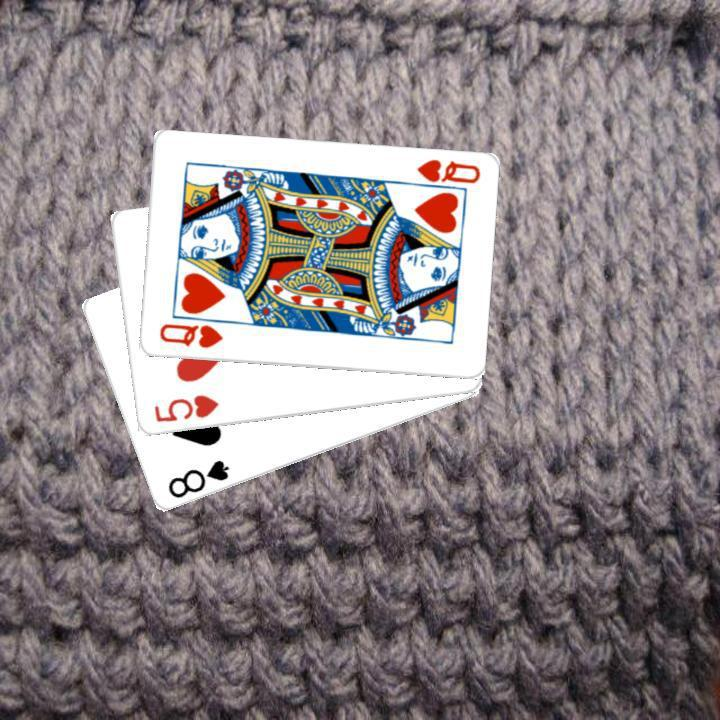5: (149, 391, 220, 425)
8: (163, 456, 231, 501)
Q: (402, 155, 482, 194), (154, 320, 224, 351)
